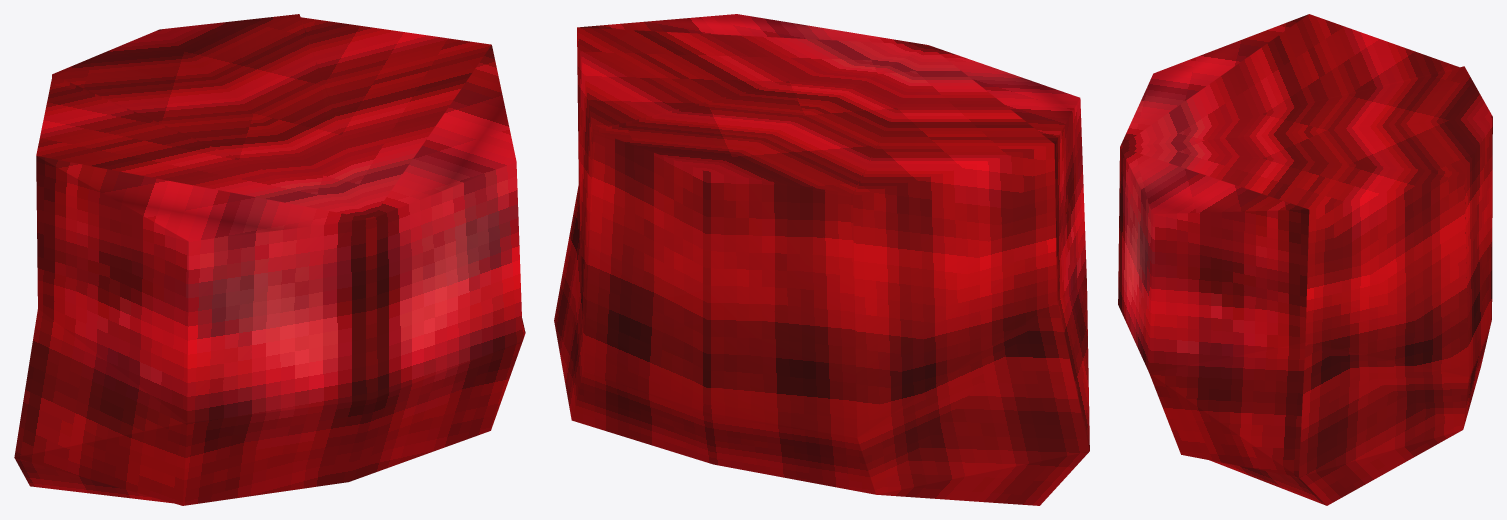
The model's file is bro_pelvis.glb.
3 renders of one model, left to right at view 1: azimuth 30°, elevation 25°; view 2: azimuth 150°, elevation 25°; view 3: azimuth 270°, elevation 25°, orthographic. The views are drawn at different scales.
Visible parts, largest first — view 1: Bro.017; view 2: Bro.017; view 3: Bro.017.
Part boxes in pixels (x1,y1,x2,y2): Bro.017: (14, 14, 525, 505); Bro.017: (554, 14, 1089, 505); Bro.017: (1118, 14, 1492, 505).
Bounding box in the file's own units: 0.6712 × 0.4253 × 0.4845.
Materials: 1 (1 with a texture image).
